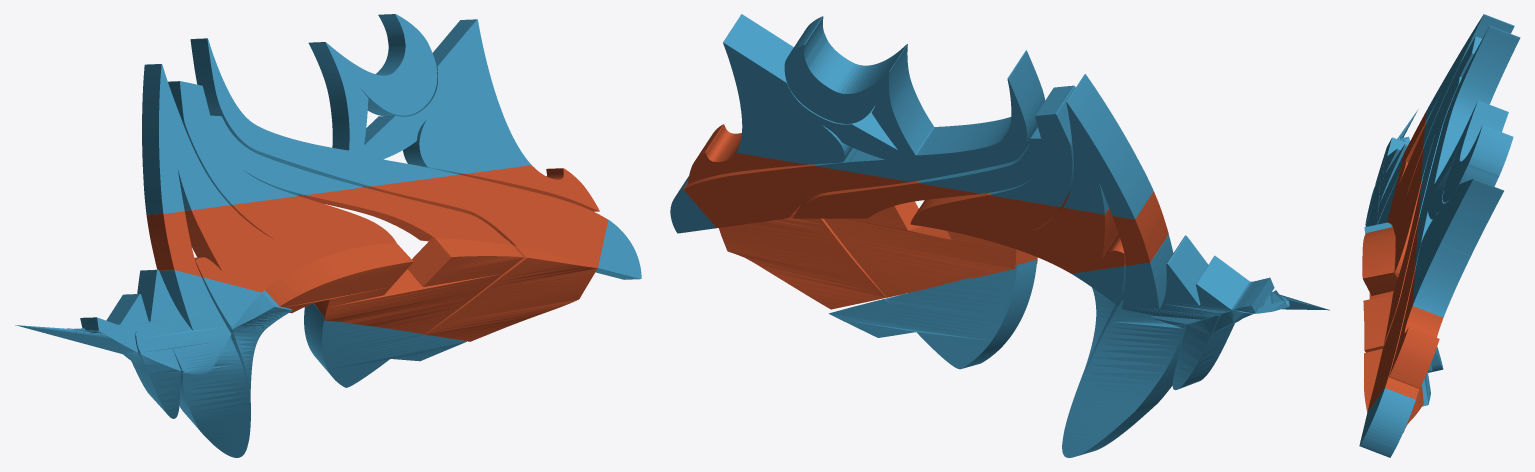
Rendered from Graff1_V2.gltf.
3 renders of one model, left to right at view 1: azimuth 30°, elevation 25°; view 2: azimuth 150°, elevation 25°; view 3: azimuth 270°, elevation 25°, orthographic. The views are drawn at different scales.
Visible parts, largest first — view 1: Curve, Curve.001, Curve.002, Curve.003; view 2: Curve, Curve.003, Curve.001, Curve.002; view 3: Curve, Curve.001, Curve.002, Curve.003.
Boxes of the visible parts, box(x1,y1,x2,y2) form: Curve: box(80, 14, 641, 374); Curve.001: box(146, 165, 608, 292); Curve.002: box(265, 237, 597, 341); Curve.003: box(15, 290, 466, 457); Curve: box(670, 14, 1274, 327); Curve.003: box(828, 259, 1329, 457); Curve.001: box(683, 124, 1168, 273); Curve.002: box(719, 201, 1037, 309); Curve: box(1359, 14, 1520, 457); Curve.001: box(1367, 112, 1443, 411); Curve.002: box(1362, 227, 1423, 432); Curve.003: box(1364, 109, 1443, 406).
Bounding box in the file's own units: 1.02 × 0.6284 × 0.2581.
